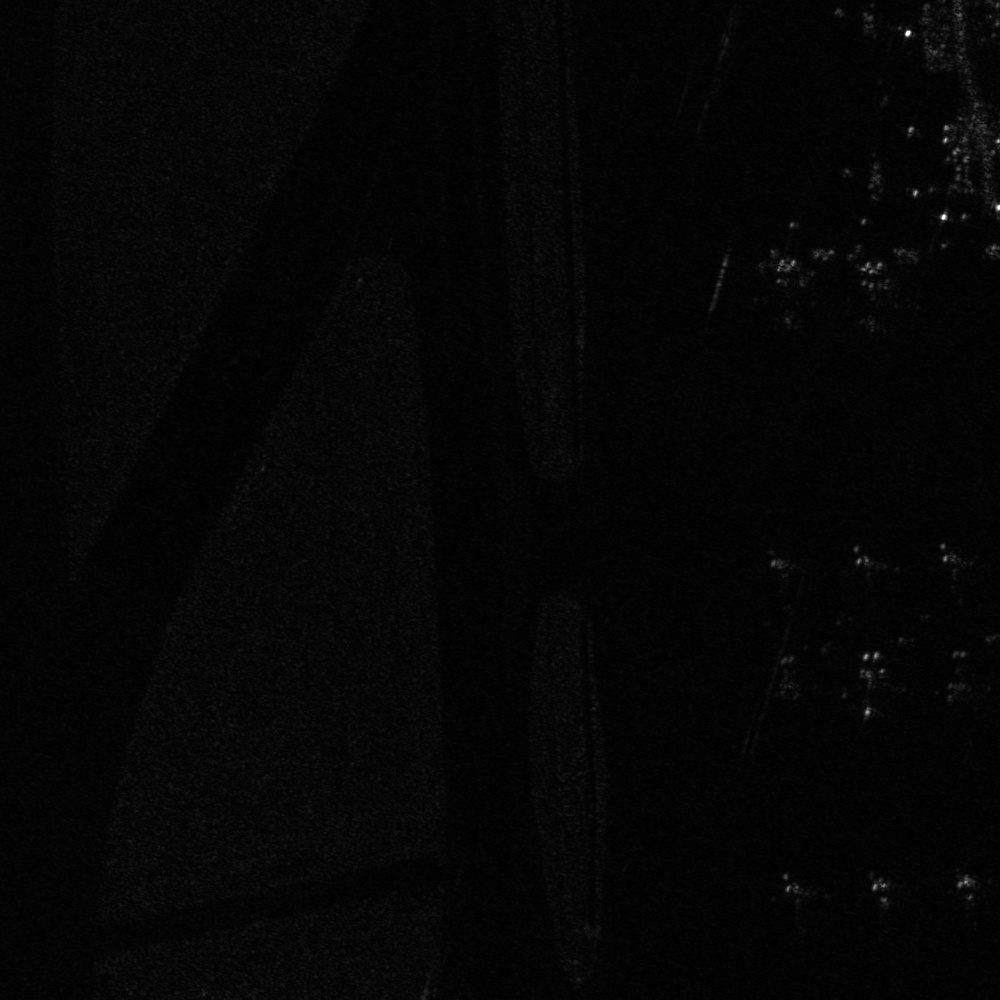A220: (851, 867, 913, 937)
A320/321: (743, 246, 824, 329), (940, 861, 998, 933)
ARJ21: (762, 864, 834, 944), (932, 645, 990, 708), (761, 652, 816, 705)
Boeing737: (832, 257, 924, 339), (834, 644, 906, 726)
other: (839, 542, 899, 613), (756, 545, 808, 621), (922, 540, 978, 610)
